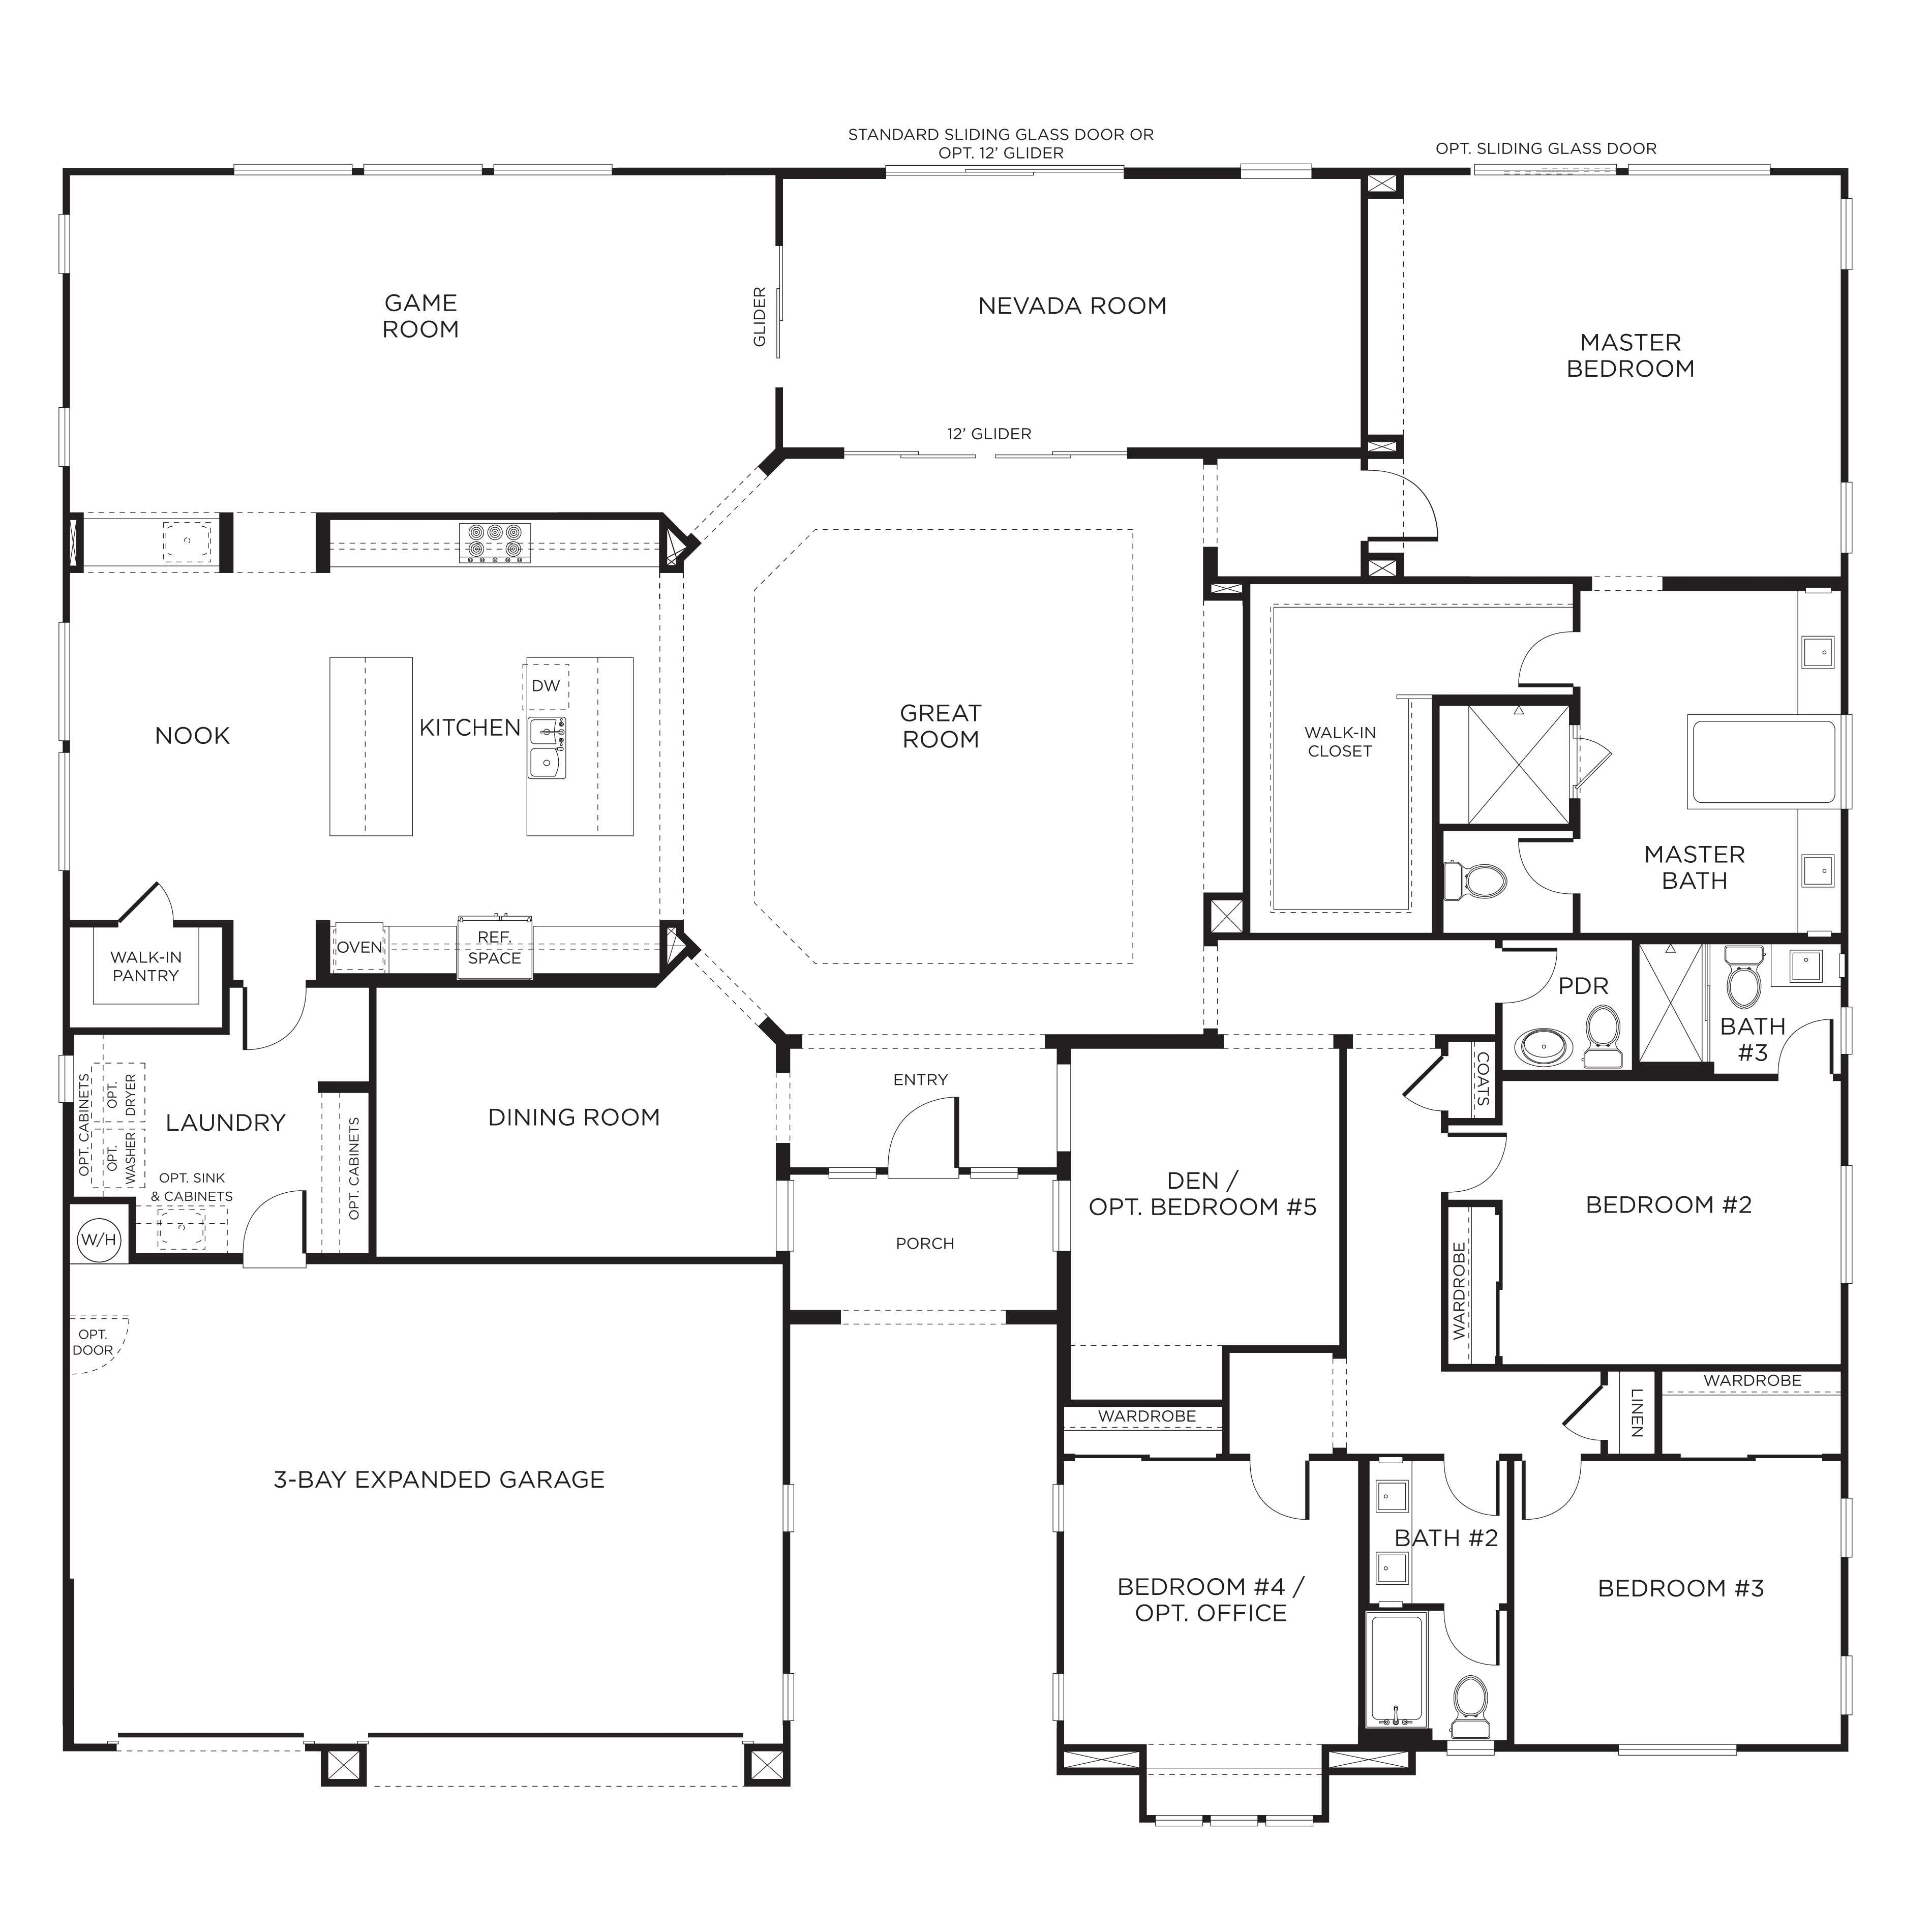window: (1615, 1739, 1741, 1764), (1626, 161, 1775, 180), (1838, 1161, 1858, 1284), (230, 161, 356, 179), (361, 161, 485, 179), (492, 161, 616, 179), (57, 750, 73, 874), (57, 621, 73, 743), (773, 1177, 798, 1253), (1049, 1178, 1074, 1253), (1838, 196, 1859, 278), (1237, 161, 1318, 180), (1838, 479, 1858, 557), (55, 212, 74, 278), (1838, 1493, 1856, 1562), (1838, 1651, 1856, 1720), (55, 1053, 76, 1104), (1207, 1813, 1261, 1833), (1263, 1812, 1318, 1831), (778, 1670, 798, 1723), (777, 1481, 796, 1534), (57, 405, 73, 469), (1838, 1001, 1856, 1056), (1152, 1813, 1205, 1831), (1049, 1670, 1067, 1723), (1049, 1481, 1067, 1534), (828, 1166, 879, 1184), (970, 1162, 1019, 1180)
